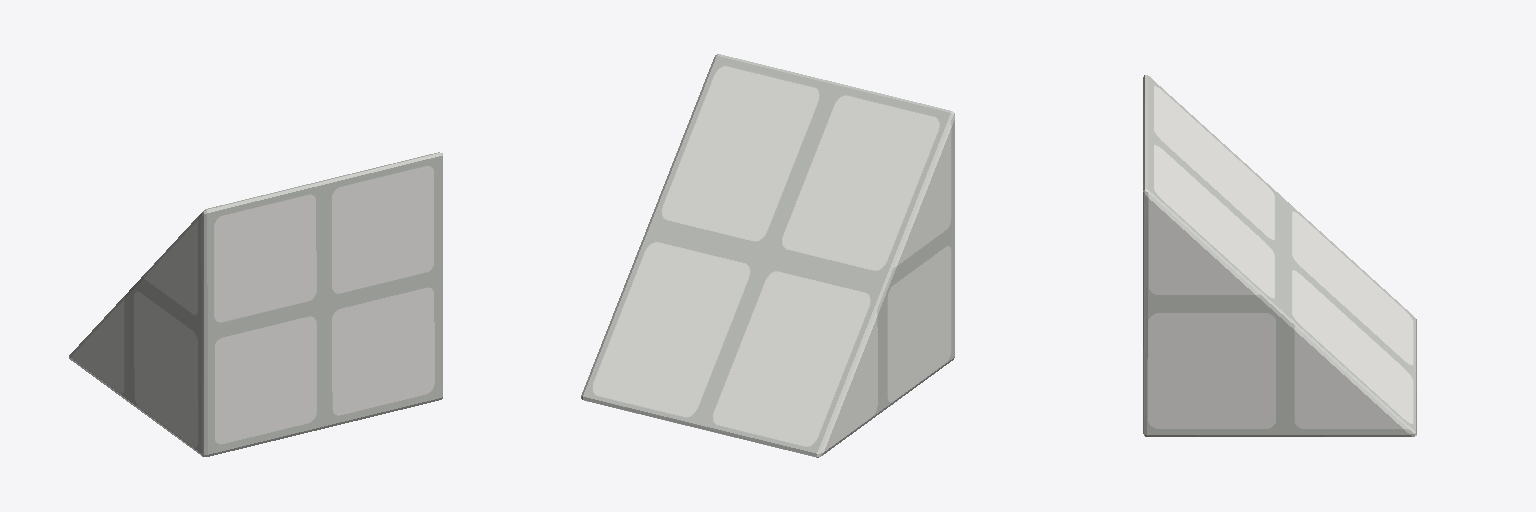
3 renders of one model, left to right at view 1: azimuth 30°, elevation 25°; view 2: azimuth 150°, elevation 25°; view 3: azimuth 270°, elevation 25°, orthographic.
Visible parts, largest first — view 1: pCube8_Mesh.013; view 2: pCube8_Mesh.013; view 3: pCube8_Mesh.013.
Boxes of the visible parts, x1=… form: pCube8_Mesh.013: x1=69, y1=152, x2=442, y2=456; pCube8_Mesh.013: x1=581, y1=54, x2=954, y2=457; pCube8_Mesh.013: x1=1143, y1=75, x2=1416, y2=436.
Size of the model in its own units: 2 by 1.97 by 1.97.
Materials: 1 (1 with a texture image).